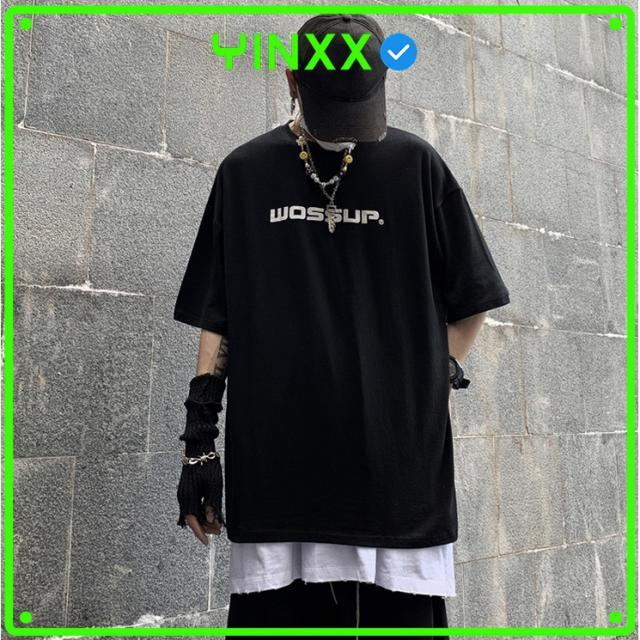Shirt: (170, 121, 511, 541)
